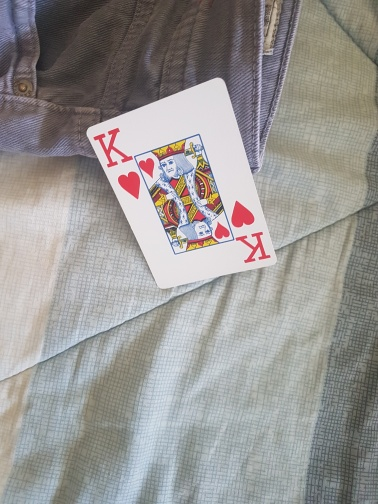king: (86, 79, 278, 289)
